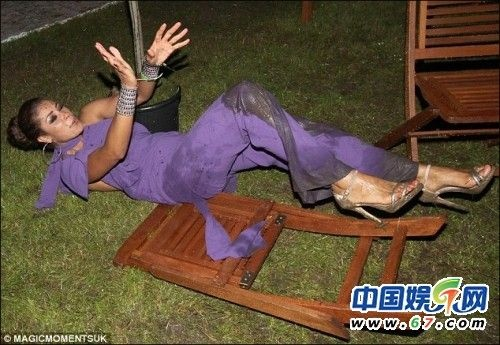falling: (11, 40, 495, 233)
